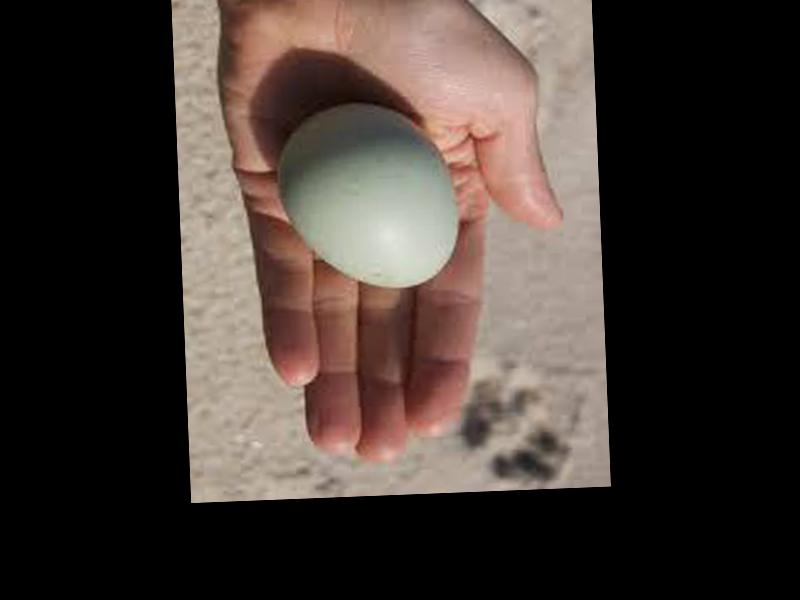Eggs: (274, 103, 456, 288)
